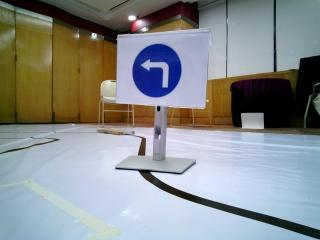left: (116, 40, 197, 109)
